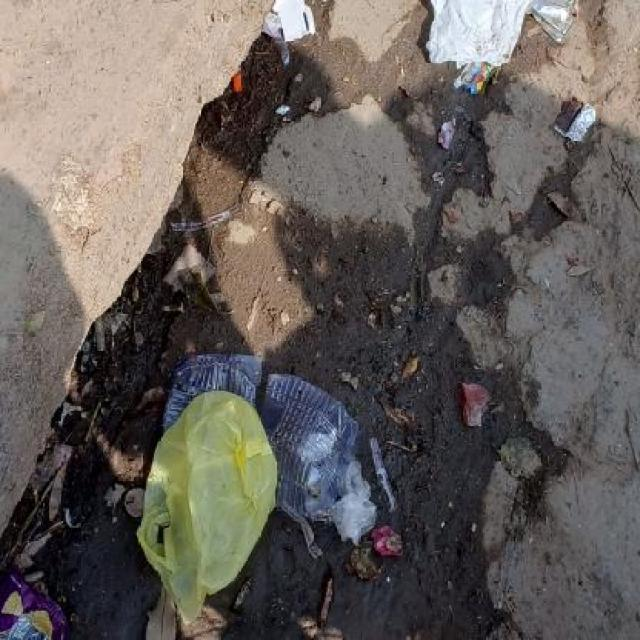garbage: (136, 348, 420, 626), (409, 0, 584, 92), (1, 559, 74, 639), (267, 2, 326, 73), (453, 372, 513, 436), (556, 106, 602, 149), (437, 113, 460, 163)
